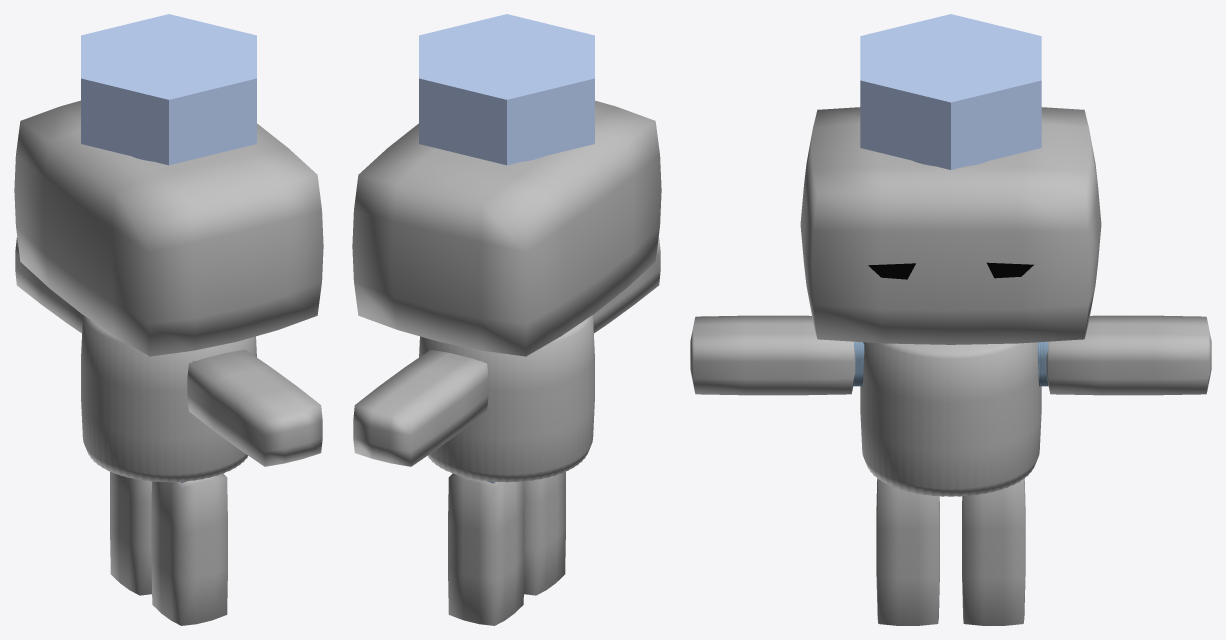
The model's file is Full.gltf.
3 renders of one model, left to right at view 1: azimuth 30°, elevation 25°; view 2: azimuth 150°, elevation 25°; view 3: azimuth 270°, elevation 25°, orthographic. The views are drawn at different scales.
Visible parts, largest first — view 1: Head, Bolt, Torso, Arms, Legs, Legs.001, Arms.001; view 2: Head, Bolt, Torso, Arms.001, Legs.001, Legs, Arms; view 3: Head, Torso, Bolt, Arms, Arms.001, Legs.001, Legs.
Boxes of the visible parts, x1,y1,x2,y2 form: Head: (14, 100, 323, 356); Bolt: (81, 14, 256, 165); Torso: (81, 315, 256, 482); Arms: (187, 349, 322, 466); Legs: (151, 473, 227, 625); Legs.001: (110, 471, 151, 595); Arms.001: (15, 237, 82, 333); Head: (352, 100, 661, 356); Bolt: (419, 14, 594, 165); Torso: (419, 315, 594, 482); Arms.001: (353, 349, 488, 466); Legs.001: (448, 473, 524, 625); Legs: (524, 471, 565, 595); Arms: (593, 237, 660, 333); Head: (800, 107, 1101, 344); Torso: (860, 342, 1041, 496); Bolt: (860, 14, 1041, 169); Arms: (690, 315, 855, 395); Arms.001: (1046, 315, 1211, 395); Legs.001: (962, 479, 1025, 625); Legs: (876, 479, 939, 625).
Bounding box in the file's own units: 2.27 × 6.18 × 5.22.
